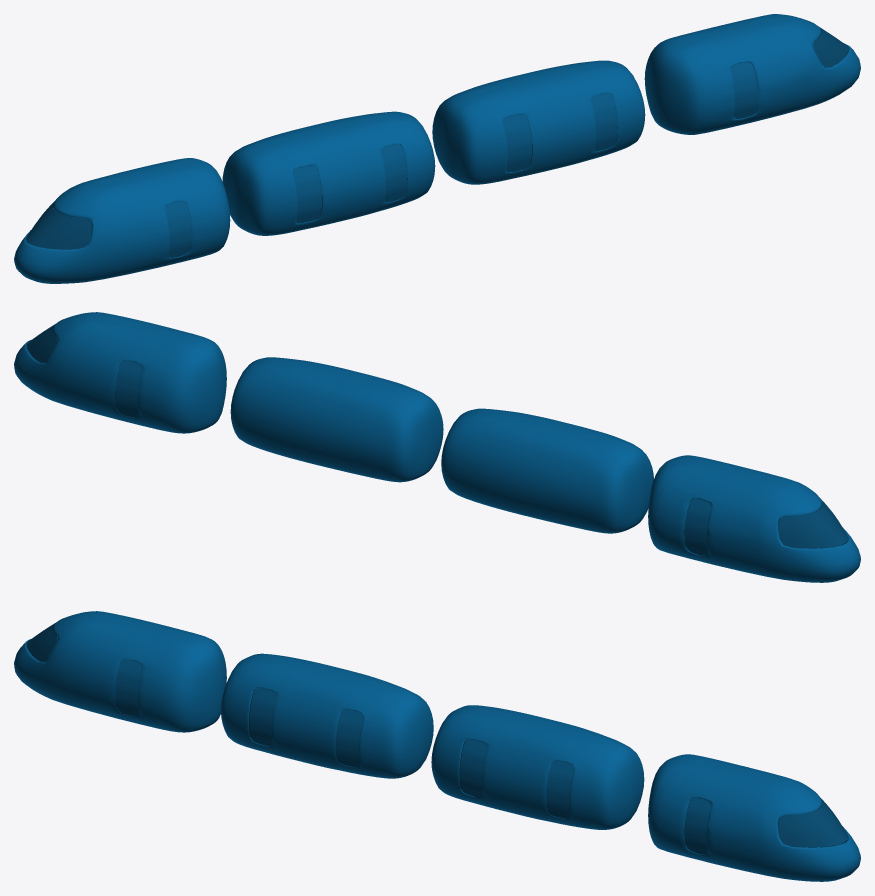
The model's file is train.glb.
3 views of the same model, one above another, from view 1: azimuth 30°, elevation 25°; view 2: azimuth 150°, elevation 25°; view 3: azimuth 330°, elevation 25° (orthographic).
Parts seen in each view (by area): view 1: cab.002, cab.001, Cab, cab, door_Left, door_Left.002, door_Right.001, door_right, door_Right, door_Right.002; view 2: Cab, cab, cab.002, cab.001, door_Left.001, door_left; view 3: cab.001, cab.002, Cab, cab, door_Right.002, door_Right, door_Left.002, door_Left, door_right, door_Right.001.
Boxes of the visible parts, x1,y1,x2,y2 form: cab.002: (14,158,230,283); cab.001: (644,14,860,134); Cab: (432,60,645,184); cab: (222,111,435,235); door_Left: (293,165,321,223); door_Left.002: (503,114,531,171); door_Right.001: (731,62,757,118); door_right: (165,201,191,257); door_Right: (591,92,617,151); door_Right.002: (381,144,407,202); Cab: (230,357,443,482); cab: (441,408,653,533); cab.002: (648,455,860,582); cab.001: (14,312,226,433); door_Left.001: (115,360,142,417); door_left: (685,498,711,555); cab.001: (648,754,860,881); cab.002: (14,611,226,732); Cab: (431,705,644,829); cab: (221,653,433,778); door_Right.002: (335,709,363,767); door_Right: (546,760,574,818); door_Left.002: (460,739,487,797); door_Left: (249,688,276,746); door_right: (115,659,142,716); door_Right.001: (685,797,711,854).
Bounding box in the file's own units: 26.94 × 2.51 × 2.99.
